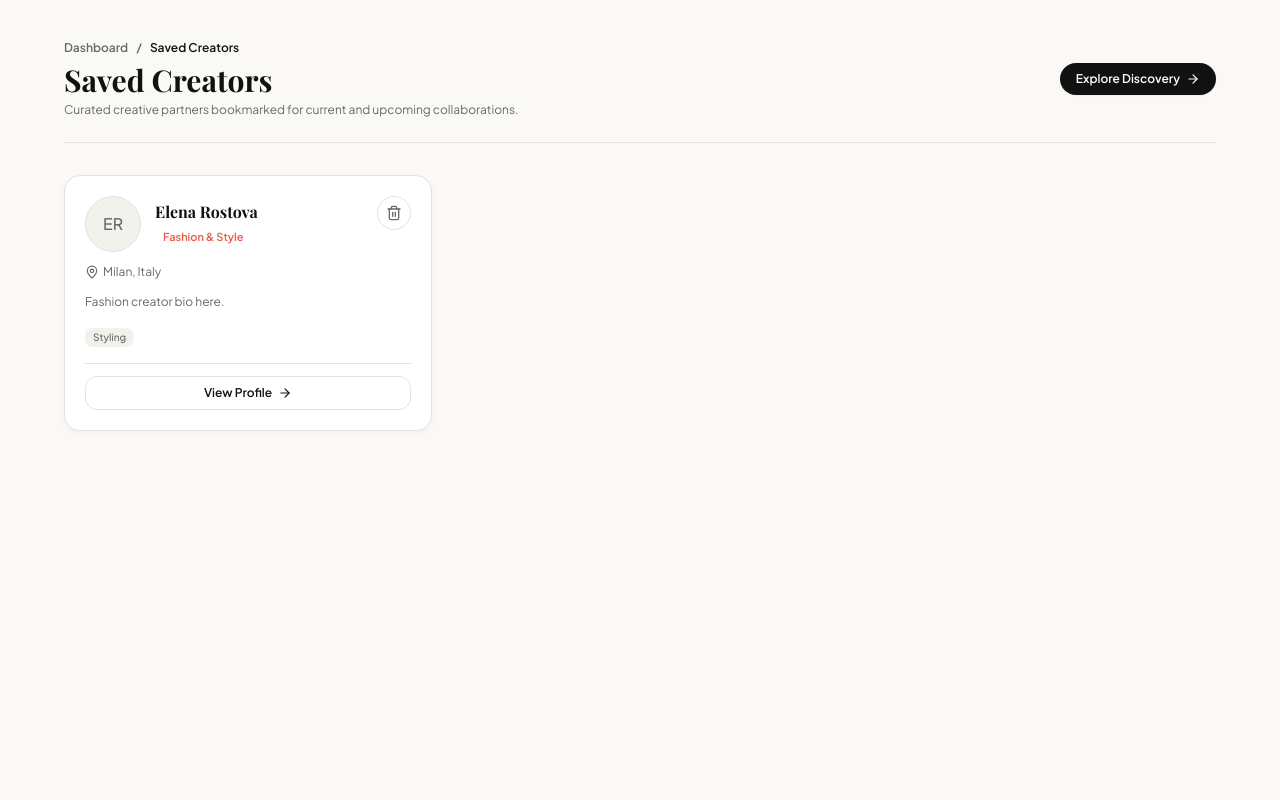
Test: Phase 16 Part 3 — Toast Mutation Feedback Integration Suite › 1. Bookmark Success & Failure Toasts › shows "Creator removed from saved" toast on successful unsave
The image size is (1280, 800).
Expected: the heading "Elena Rostova" is shown, [155,201,258,223]
What coordinates should you click on to do the following:
click the button named "Unsave Elena Rostova"
I would click on:
 (394, 213)
Its box is [377,196,411,230].
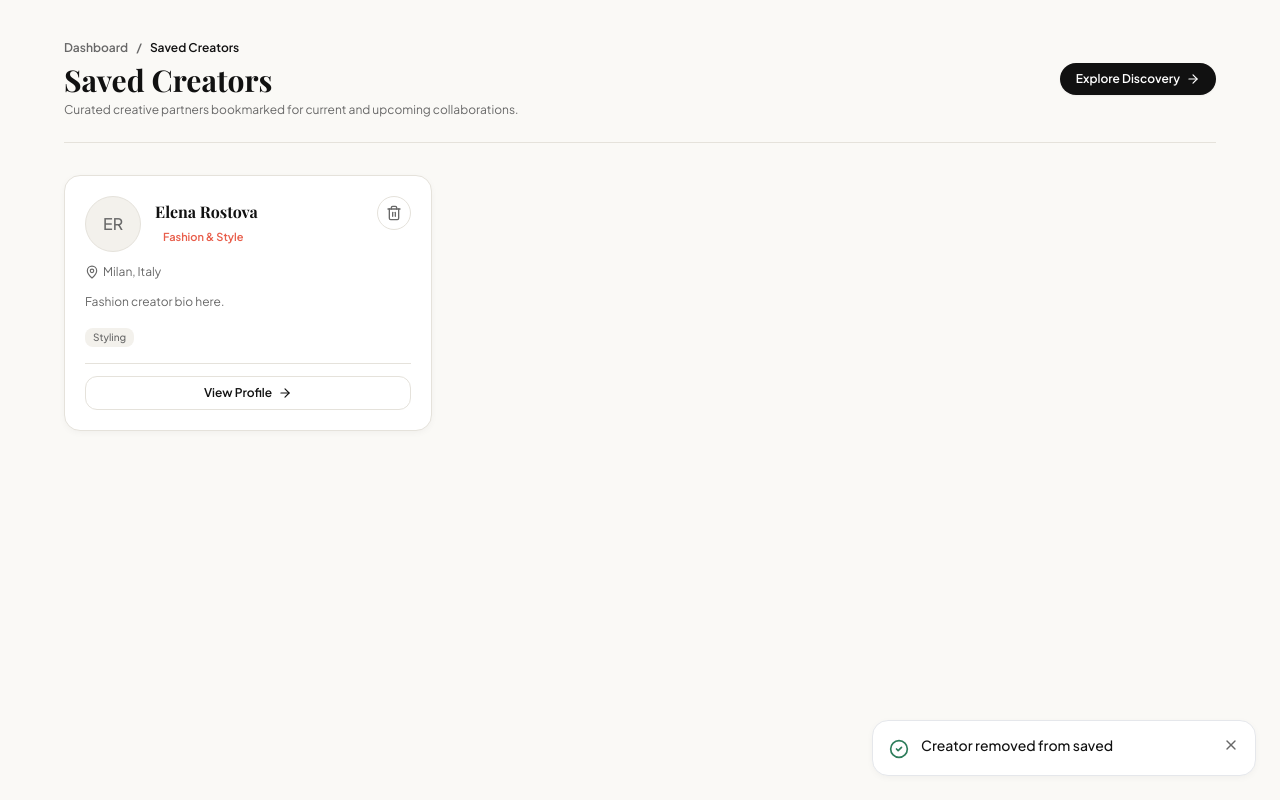
Expected: the text "Creator removed from saved" is shown, [921,736,1113,754]
